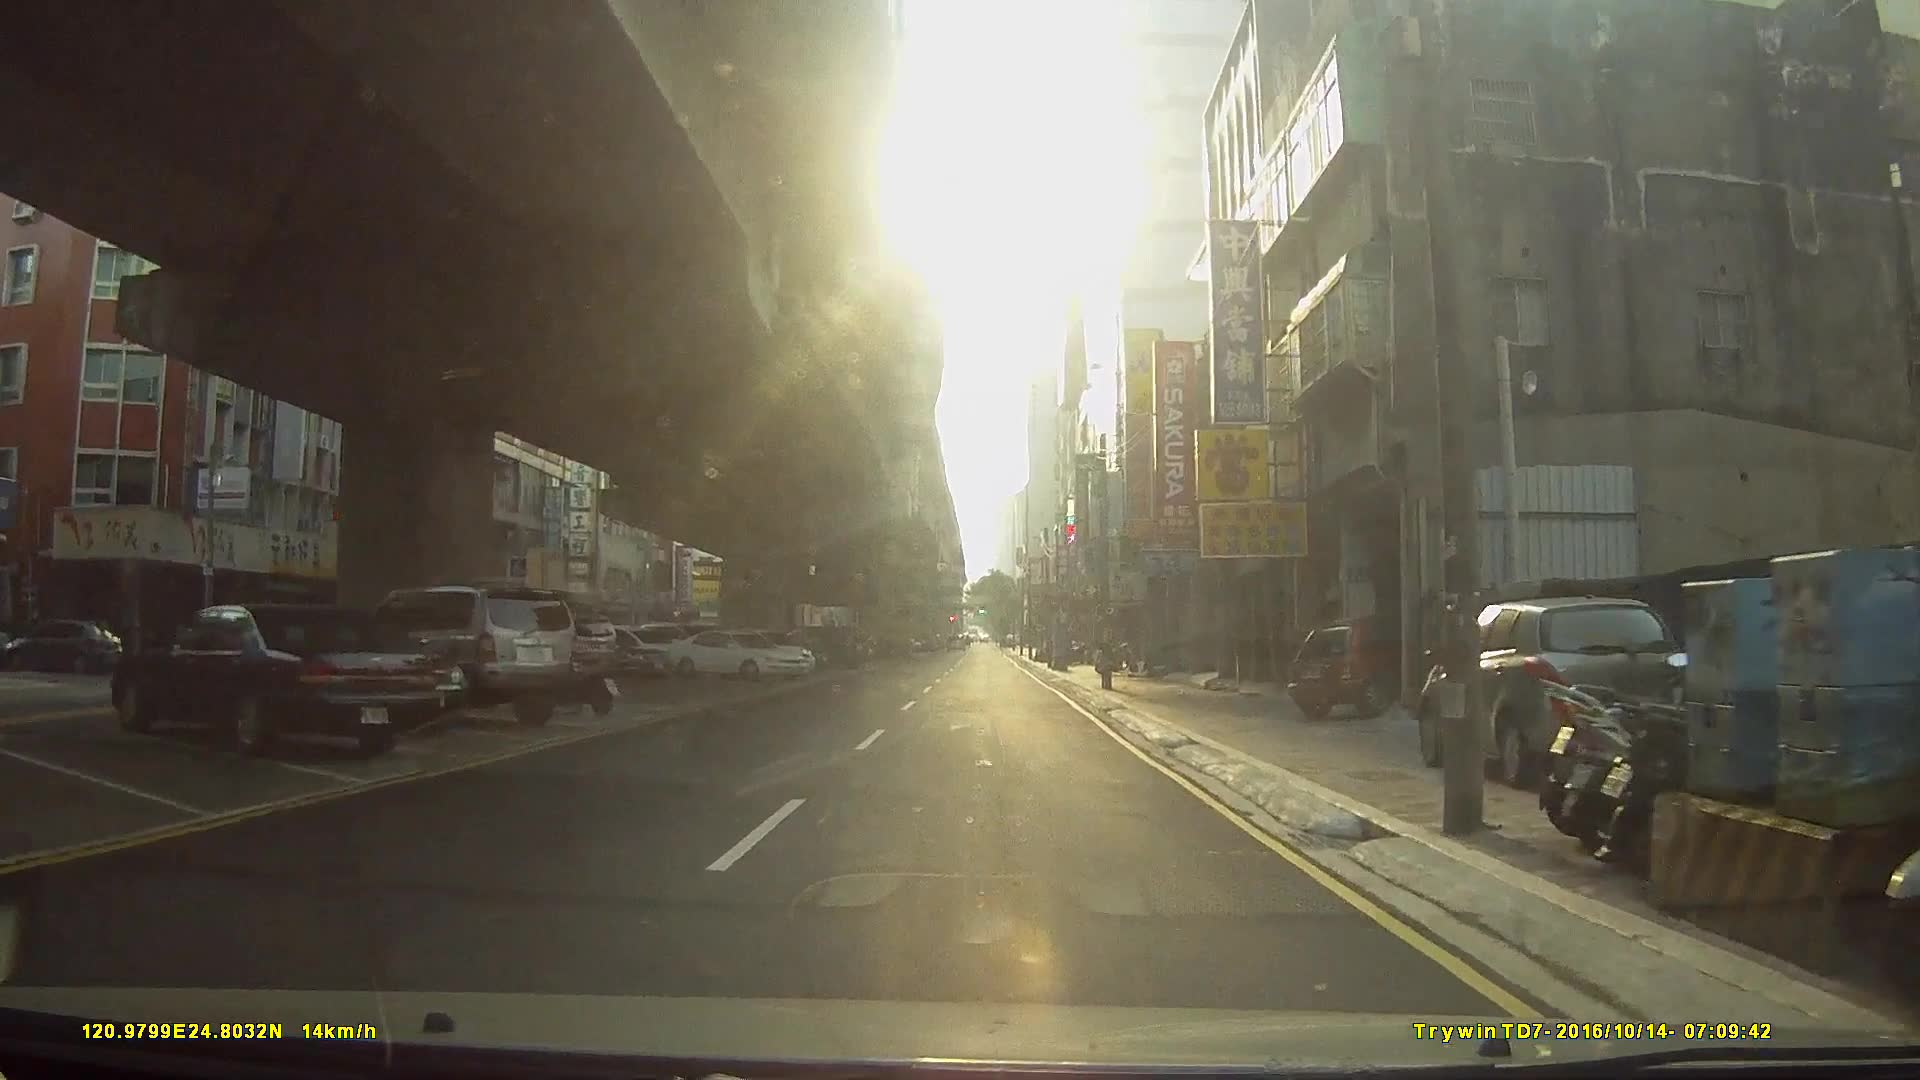vehicle: (1418, 592, 1695, 786), (105, 601, 434, 756), (349, 582, 582, 731), (1288, 611, 1449, 717), (665, 624, 814, 680), (0, 618, 125, 673)
